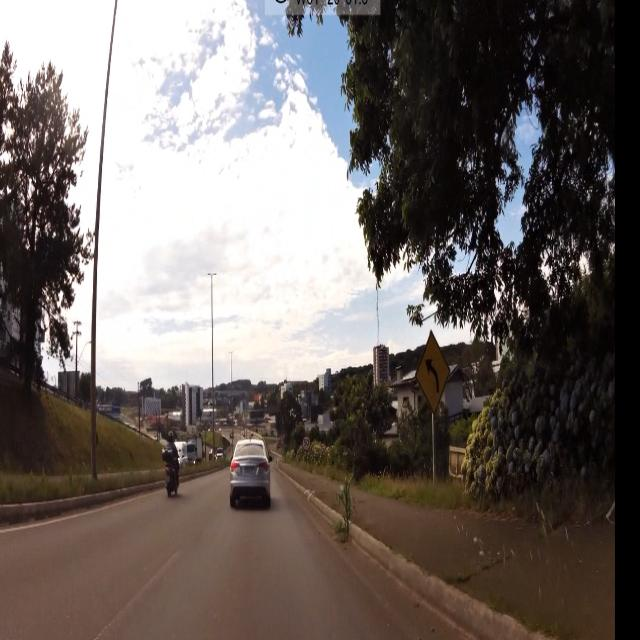A-2a: (417, 325, 452, 420)
